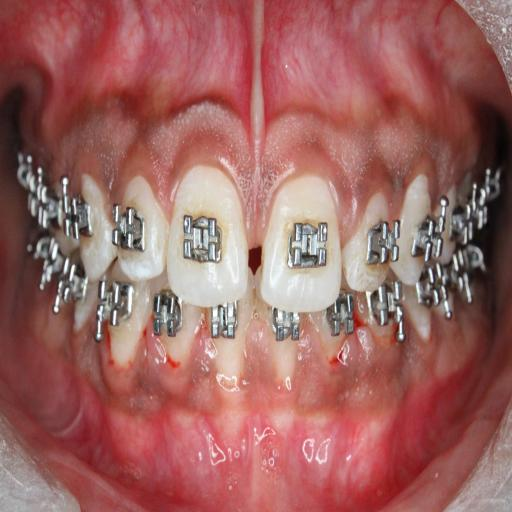correct_brace: (285, 215, 333, 275), (181, 208, 222, 274), (362, 213, 401, 274), (112, 202, 146, 258)
incorrect_brace: (342, 180, 402, 292), (112, 174, 166, 280)
